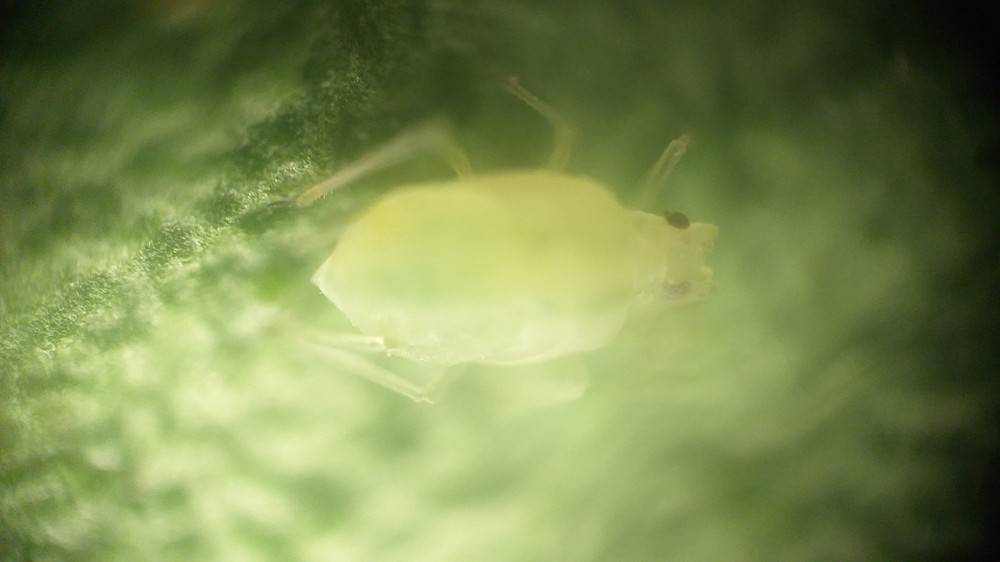Pulgon: (268, 77, 762, 448)
